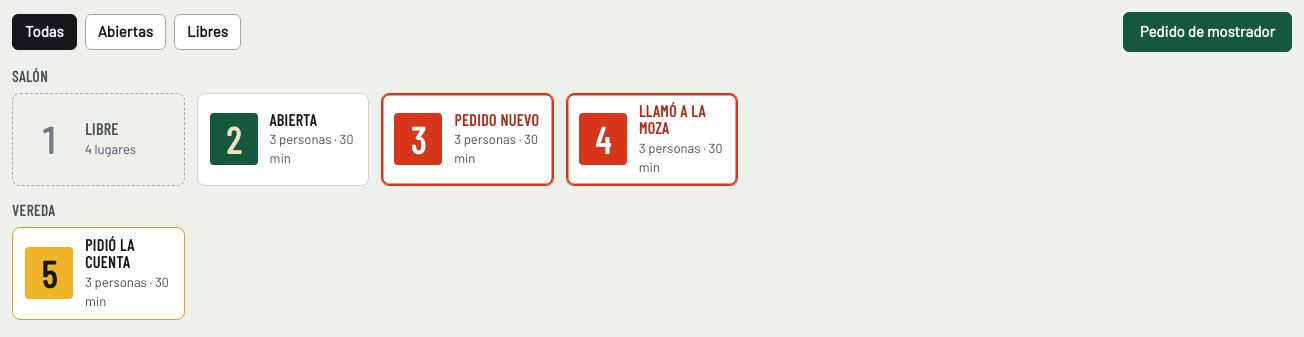
Test: filtro "Libres" muestra solo mesas sin sesión y "Abiertas" las ocupadas
Later steps or results of the test are not shown.
Click the button "Libres" at (207, 32), box 174,14 -> 241,50
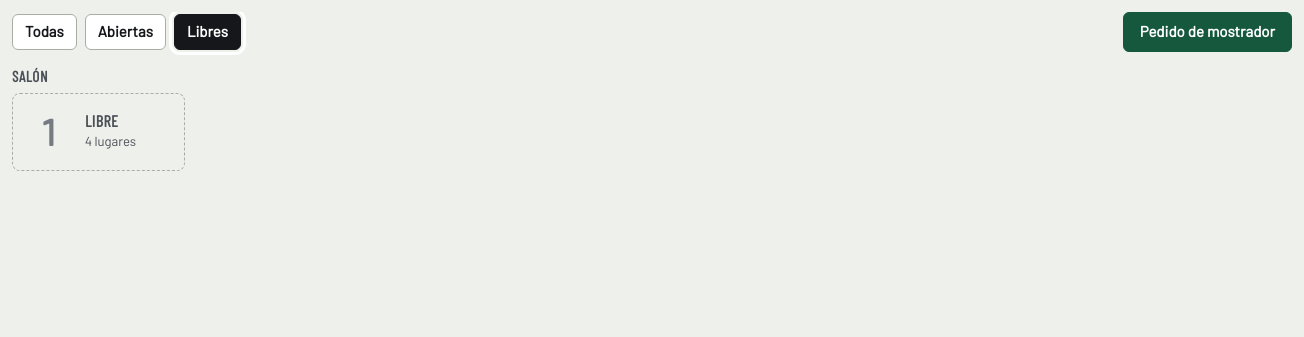
Check: the button "1 Libre 4 lugares" is shown, box 12,93 -> 185,171
Check: the button "Libres" is pressed, box 174,14 -> 241,50
